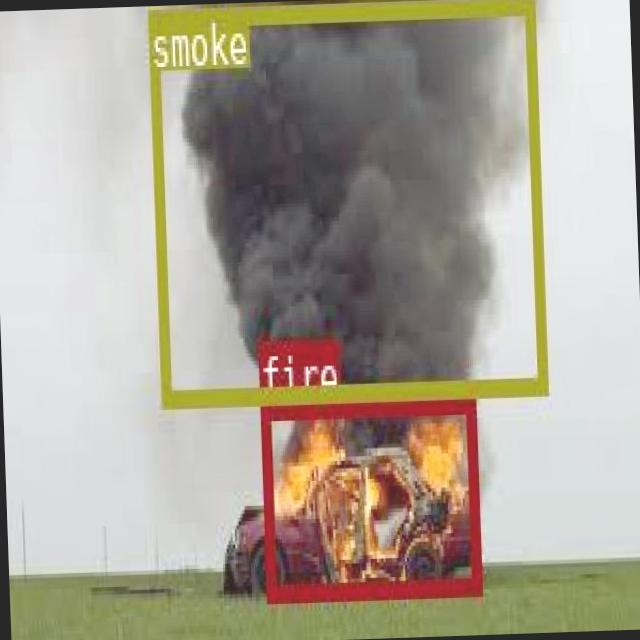fire: (258, 394, 478, 598)
smoke: (146, 0, 545, 405)
